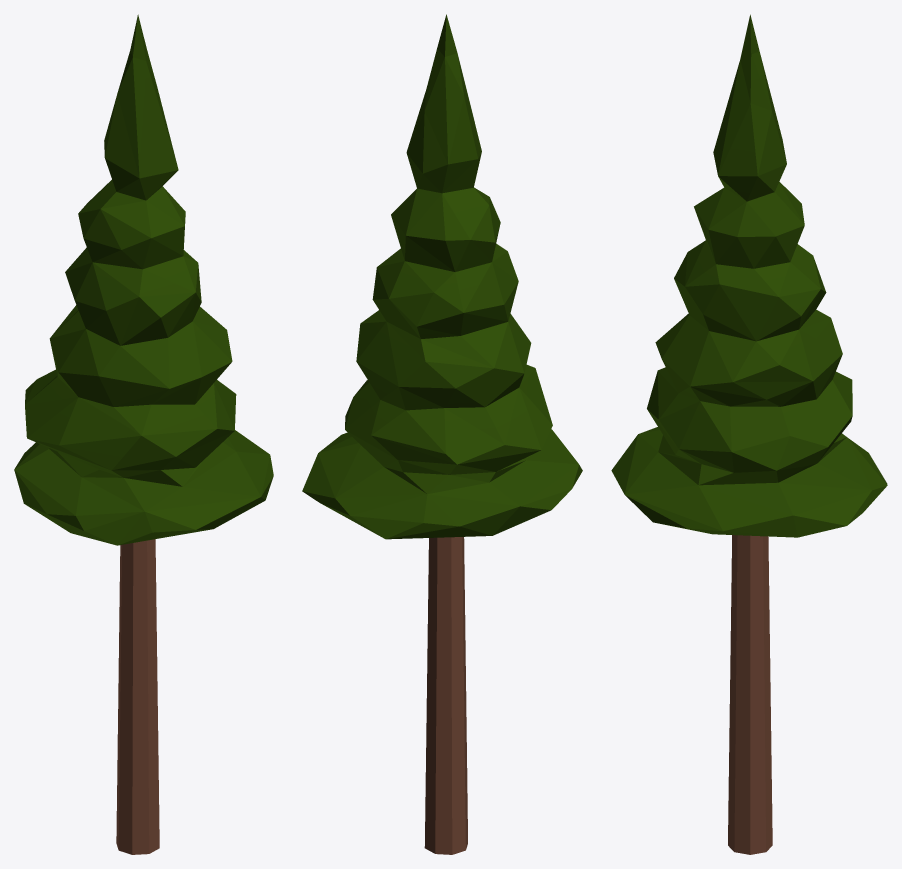
The model's file is PineTallB.glb.
3 renders of one model, left to right at view 1: azimuth 30°, elevation 25°; view 2: azimuth 150°, elevation 25°; view 3: azimuth 270°, elevation 25°, orthographic.
Visible parts, largest first — view 1: PineTallB_LOD0; view 2: PineTallB_LOD0; view 3: PineTallB_LOD0.
Boxes of the visible parts, box(x1,y1,x2,y2) form: PineTallB_LOD0: box(14, 14, 273, 854); PineTallB_LOD0: box(302, 14, 582, 854); PineTallB_LOD0: box(611, 14, 887, 854).
Size of what is drawn, in the model's own units: 3.26 by 11.35 by 3.42.
